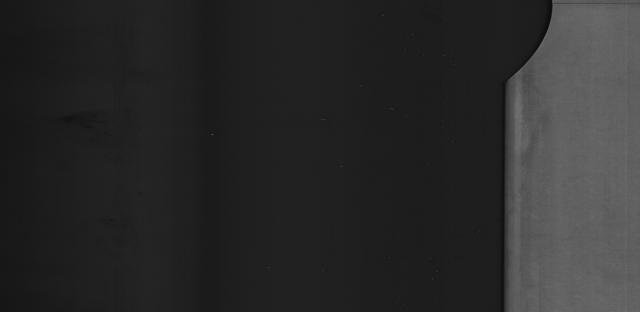crescent_gap: (478, 0, 570, 85)
